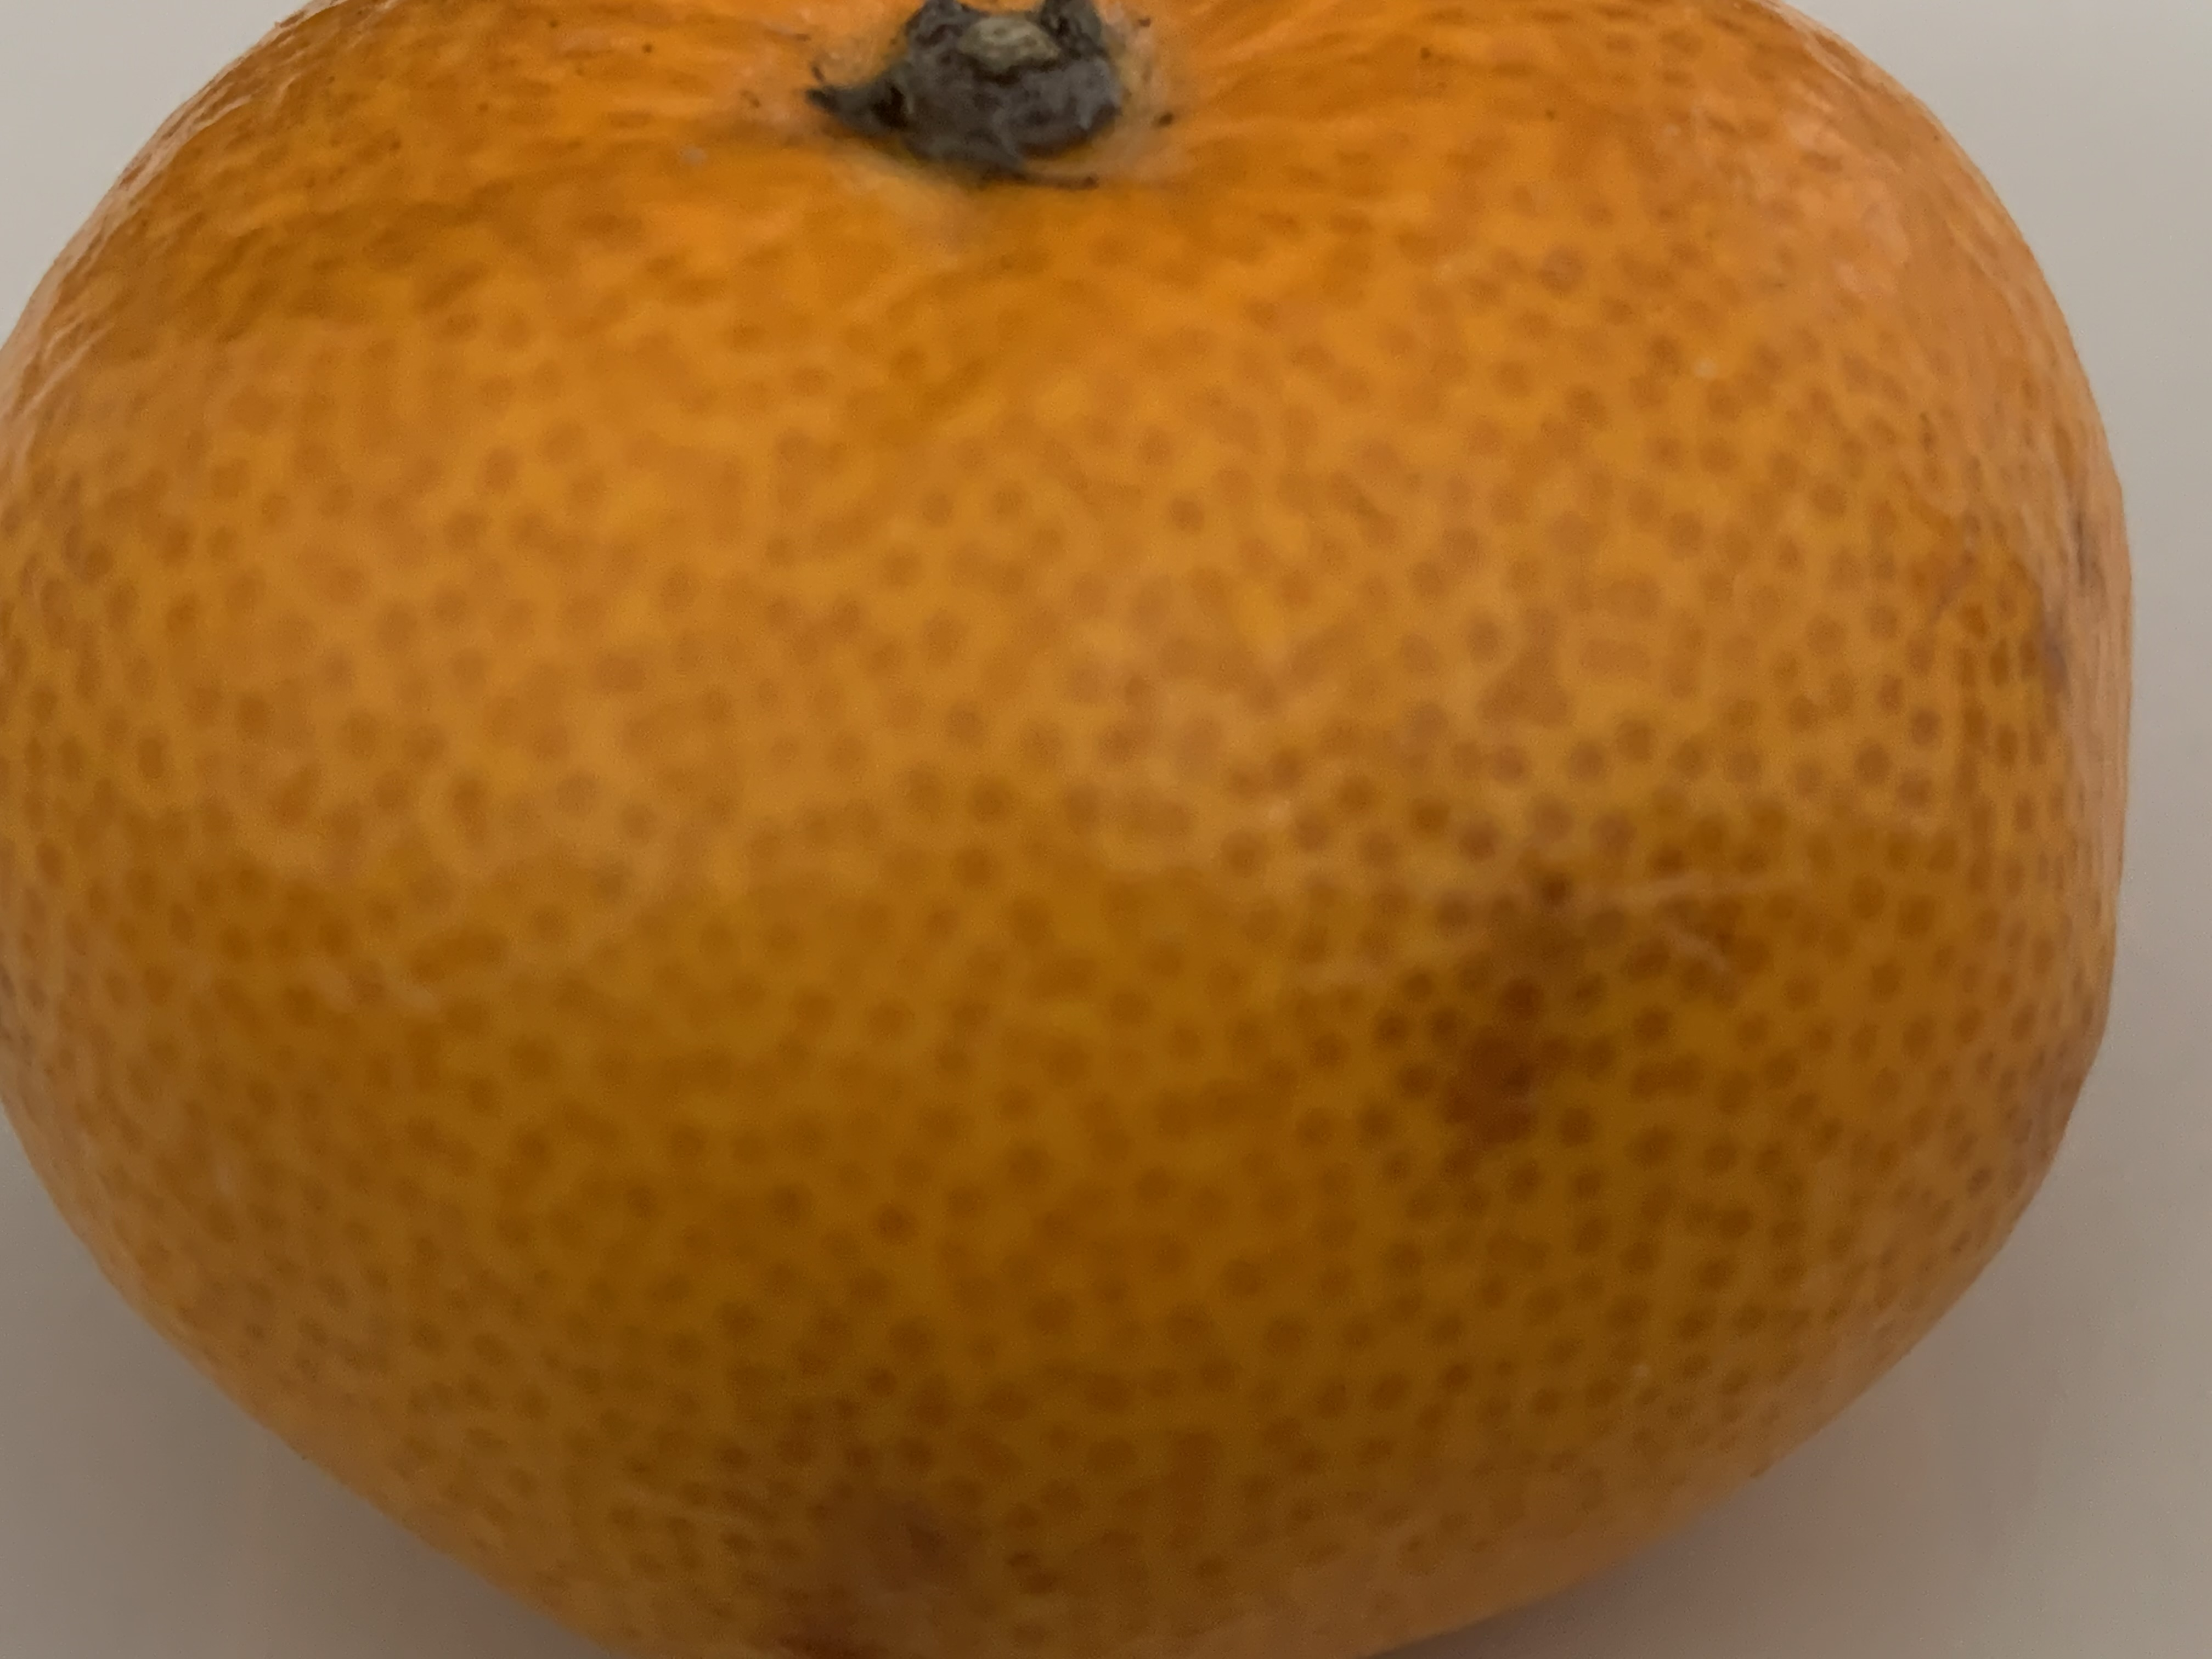orange: (23, 24, 2127, 1659)
